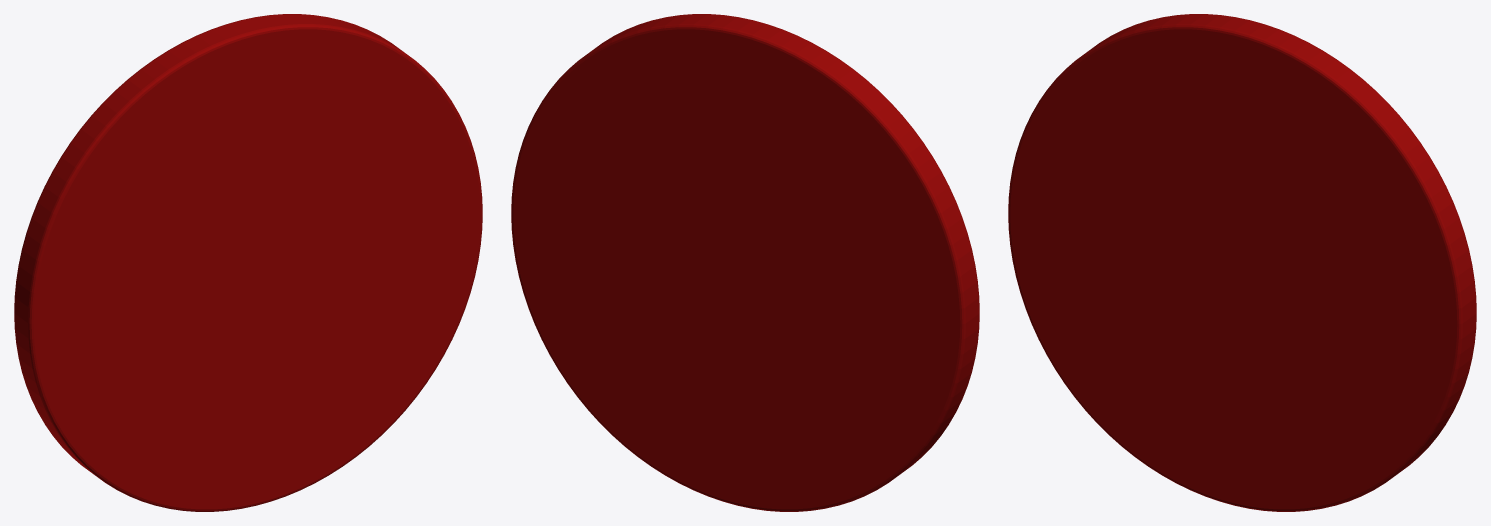
The model's file is lens_red.dae.
3 renders of one model, left to right at view 1: azimuth 30°, elevation 25°; view 2: azimuth 150°, elevation 25°; view 3: azimuth 330°, elevation 25°, orthographic.
Visible parts, largest first — view 1: g0; view 2: g0; view 3: g0.
Part boxes in pixels (<box>): g0: <box>14,14,482,511</box>; g0: <box>511,14,979,511</box>; g0: <box>1008,14,1476,511</box>.
Bounding box in the file's own units: 0.045 × 0.003 × 0.045.
